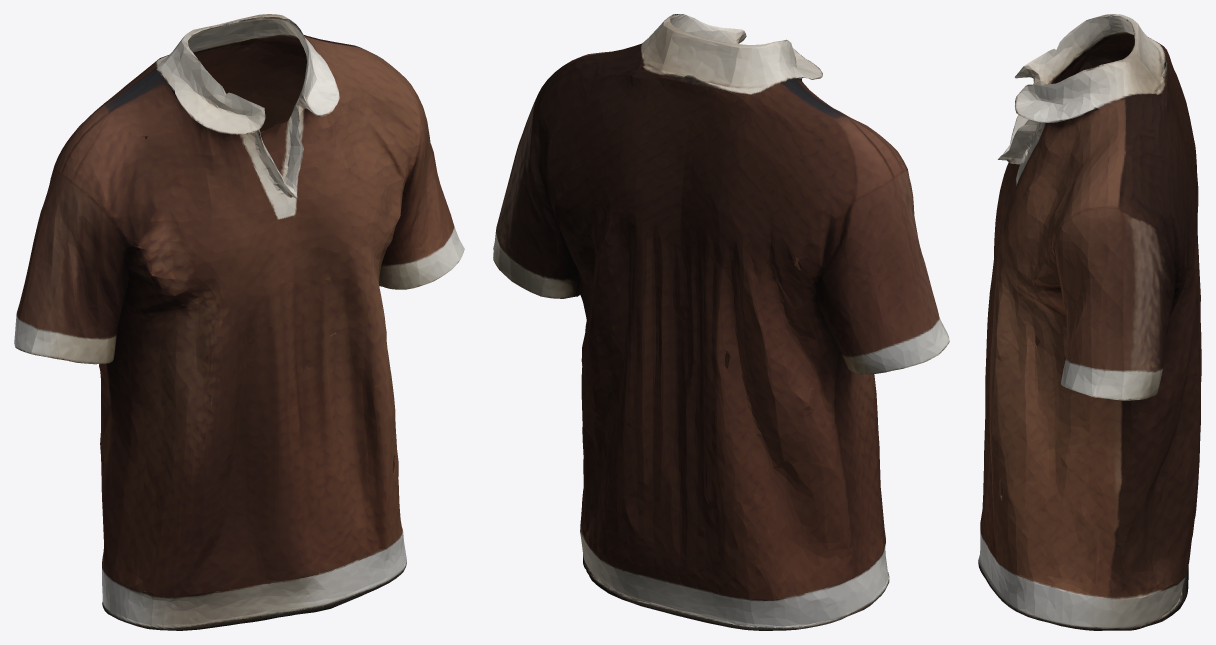
The model's file is tee.glb.
The picture shows the model from 3 angles, left to right: view 1: azimuth 30°, elevation 25°; view 2: azimuth 150°, elevation 25°; view 3: azimuth 270°, elevation 25°; orthographic projection. The views are drawn at different scales.
Parts seen in each view (by area): view 1: world; view 2: world; view 3: world.
Part boxes in pixels (box(x1,y1,x2,y2)): world: box(14, 14, 464, 630); world: box(493, 14, 949, 630); world: box(978, 14, 1201, 630).
Size of the model in its own units: 0.83 by 1 by 0.3767.
Materials: 1 (1 with a texture image).
